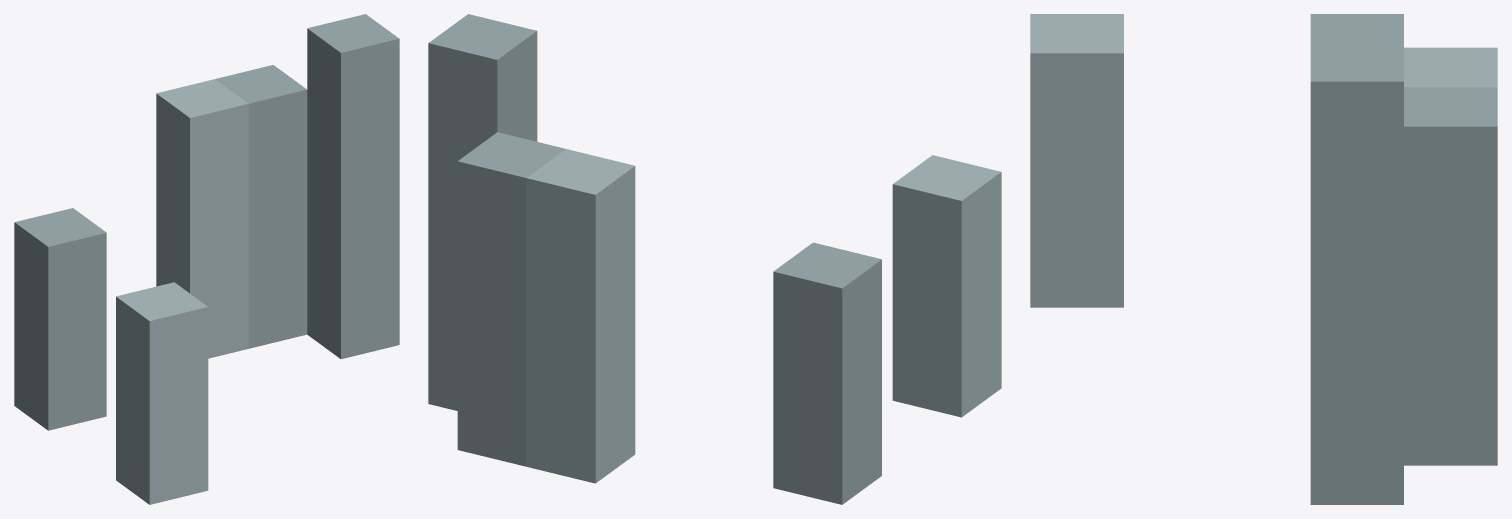
File: cardo_maritimo_03.glb
The picture shows the model from 3 angles, left to right: view 1: azimuth 30°, elevation 25°; view 2: azimuth 150°, elevation 25°; view 3: azimuth 270°, elevation 25°; orthographic projection. The views are drawn at different scales.
Visible parts, largest first — view 1: cardo_maritimo_03; view 2: cardo_maritimo_03; view 3: cardo_maritimo_03.
Boxes of the visible parts, x1,y1,x2,y2 form: cardo_maritimo_03: (14,14,399,504); cardo_maritimo_03: (428,14,1001,504); cardo_maritimo_03: (1030,14,1497,504).
Size of the model in its own units: 0.6 by 0.5 by 0.5.
